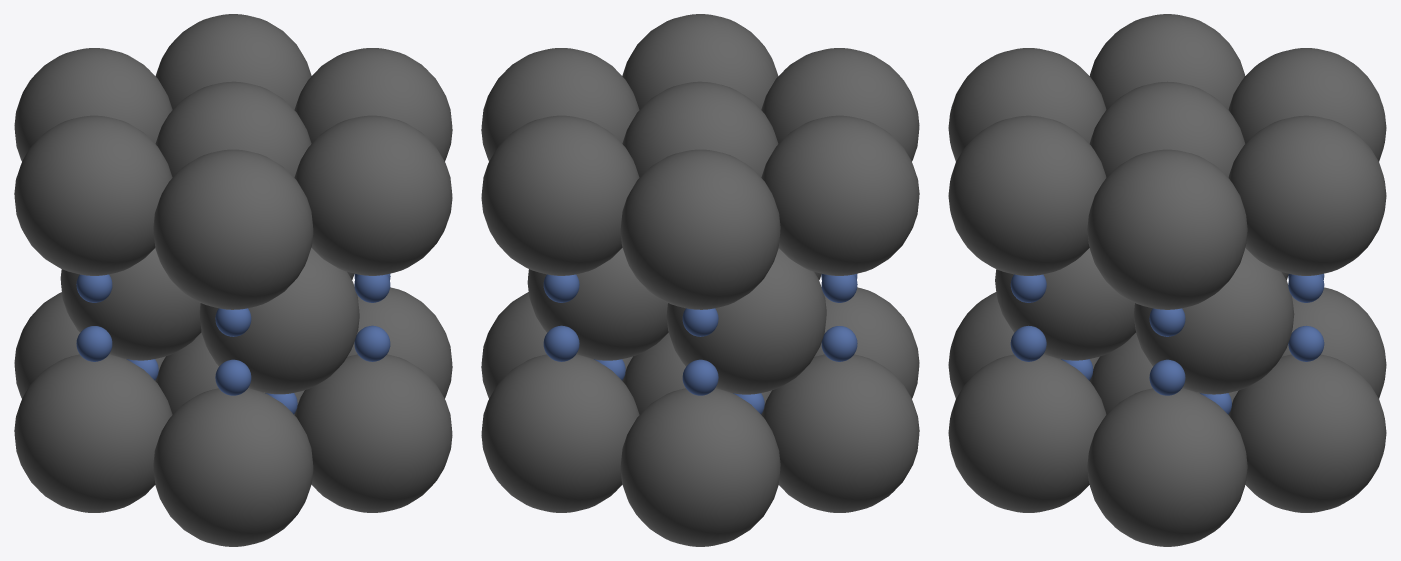
The model's file is Hdp_TL.glb.
3 views of the same model, side by side, from view 1: azimuth 30°, elevation 25°; view 2: azimuth 150°, elevation 25°; view 3: azimuth 270°, elevation 25° (orthographic).
Parts seen in each view (by area): view 1: Sphere.007, Sphere.001; view 2: Sphere.007, Sphere.001; view 3: Sphere.007, Sphere.001.
Part boxes in pixels (box(x1,y1,x2,y2)): Sphere.007: box(14, 14, 452, 546); Sphere.001: box(76, 273, 390, 414); Sphere.007: box(481, 14, 919, 546); Sphere.001: box(543, 274, 857, 414); Sphere.007: box(948, 14, 1386, 546); Sphere.001: box(1010, 273, 1324, 414).
Bounding box in the file's own units: 6 × 5.26 × 5.46.
